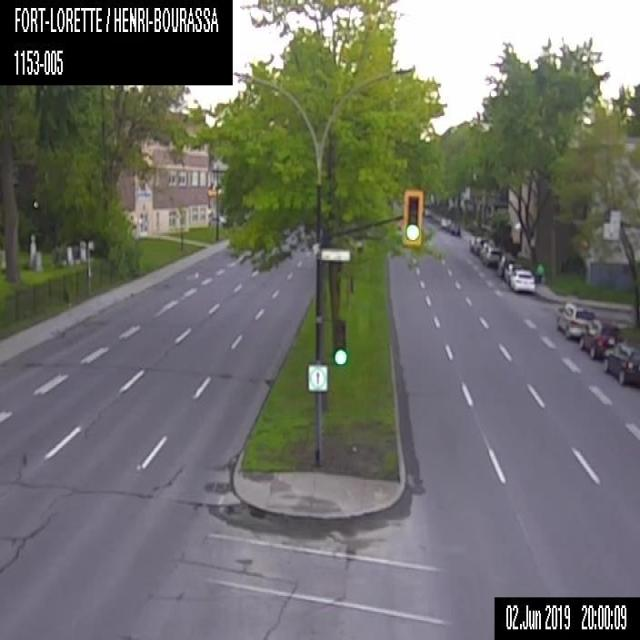vehicle: (604, 342, 639, 389), (556, 300, 599, 336), (580, 319, 620, 357), (510, 271, 536, 293), (482, 246, 503, 267), (504, 261, 522, 280), (473, 237, 487, 252), (450, 222, 459, 234), (441, 217, 449, 227)
